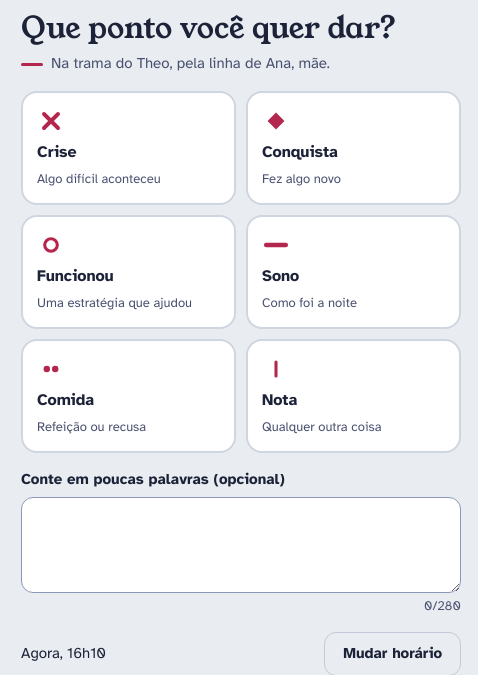
Scenario: falha de rede salva rascunho e mostra a frase
Click the button "Comida Refeição ou recusa". click: (128, 396)
box: [21,339,236,453]
(page scrolled)
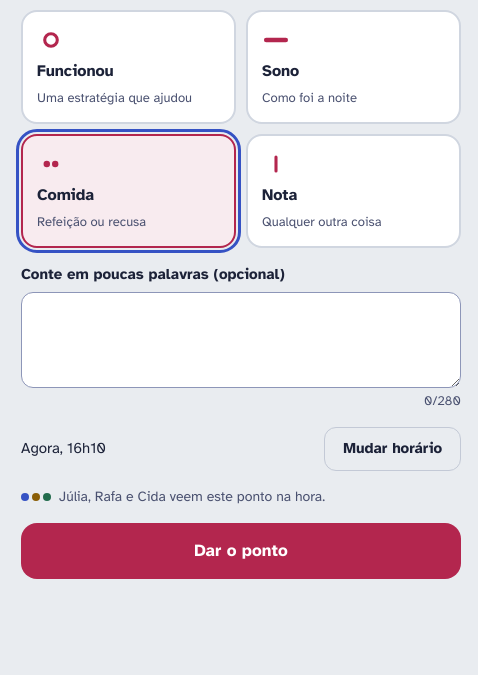
Click the button "Dar o ponto". click: (241, 551)
box: [21,523,461,579]
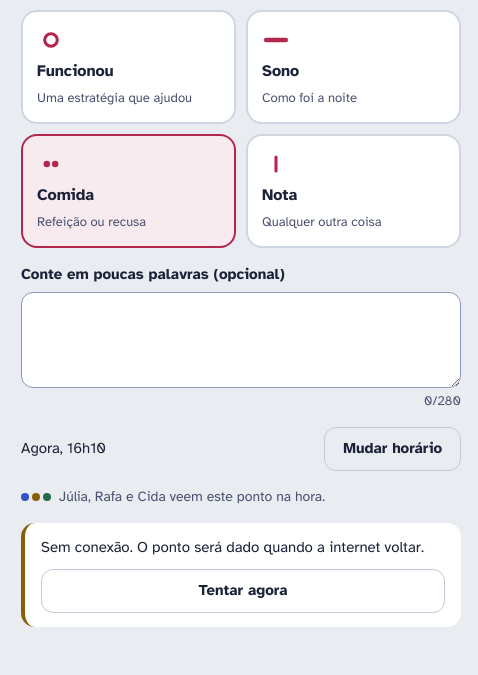
expect the text "Sem conexão. O ponto será dado quando a internet voltar." is shown: met, box [41,537,445,559]
